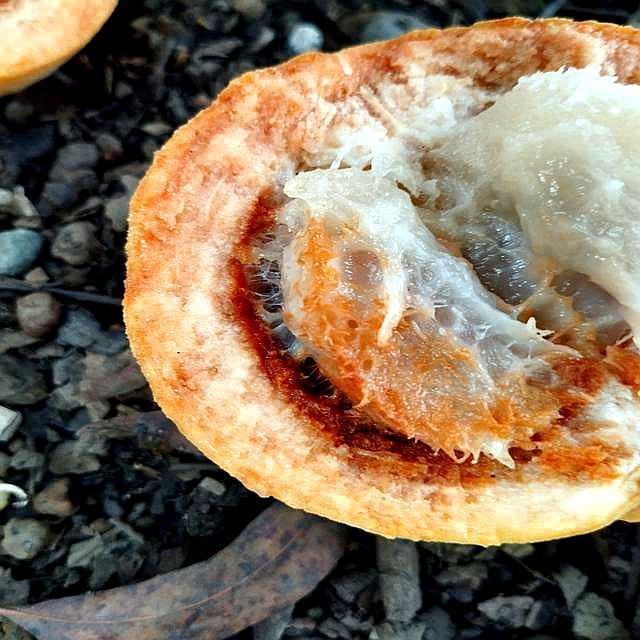Biodegradable: (127, 21, 640, 545), (1, 1, 131, 91)
